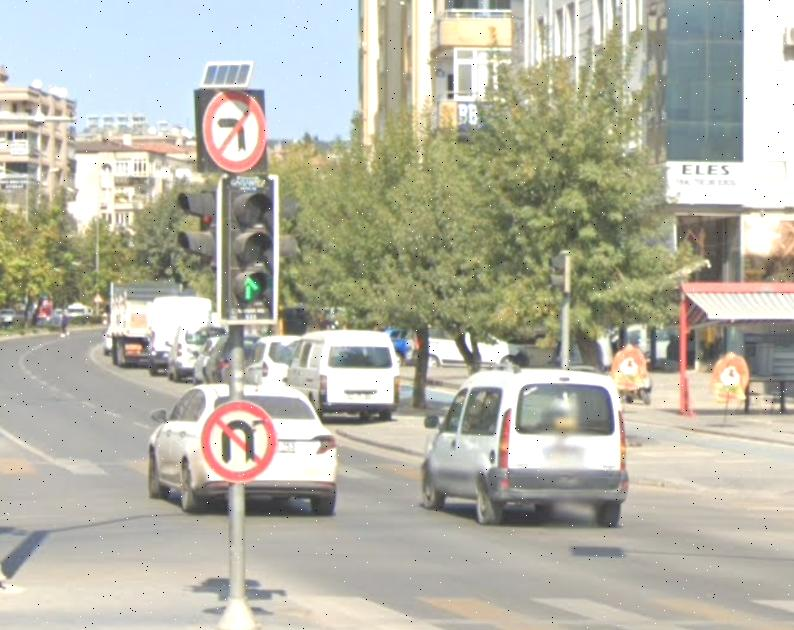greenlight: (227, 177, 272, 308)
leftturnsareforbidden: (196, 89, 265, 171)
